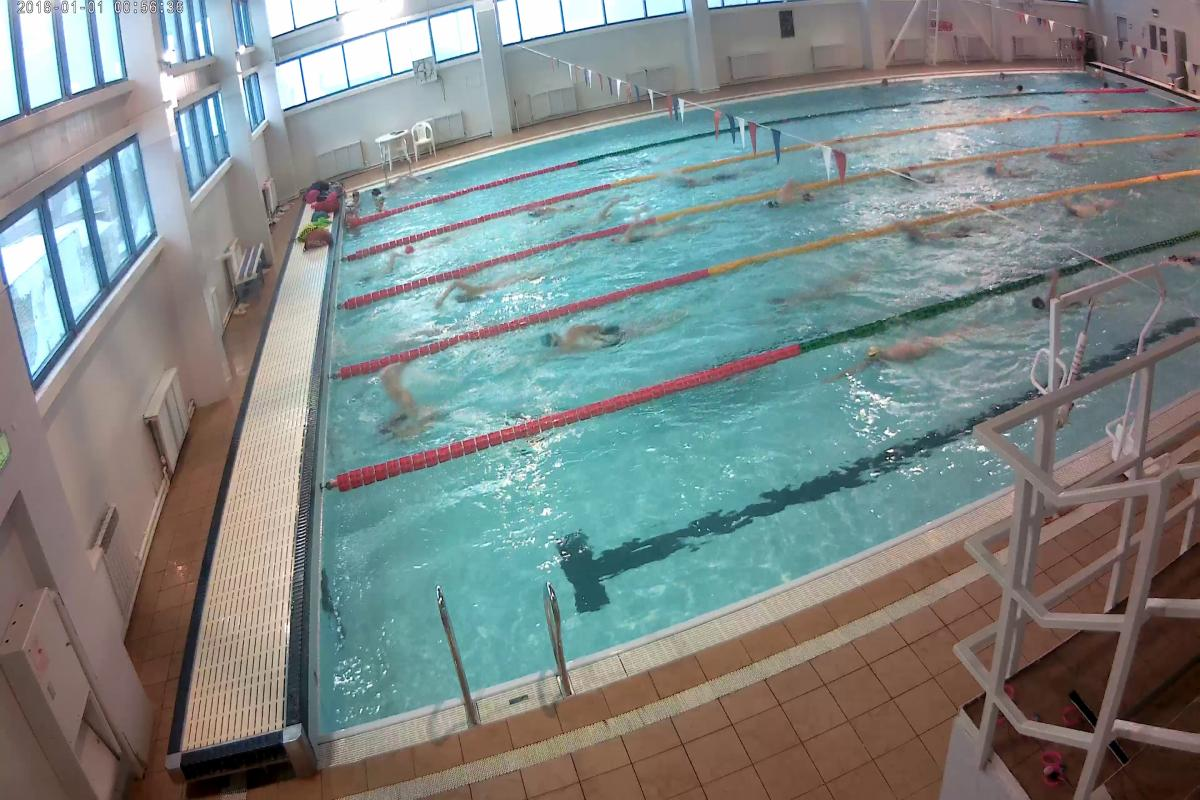swimmer: (830, 324, 962, 387), (537, 313, 681, 367), (363, 361, 440, 443), (434, 272, 528, 312), (1060, 191, 1121, 230), (899, 223, 994, 244), (600, 228, 678, 253), (764, 189, 822, 218), (985, 158, 1040, 186), (526, 200, 578, 222)
